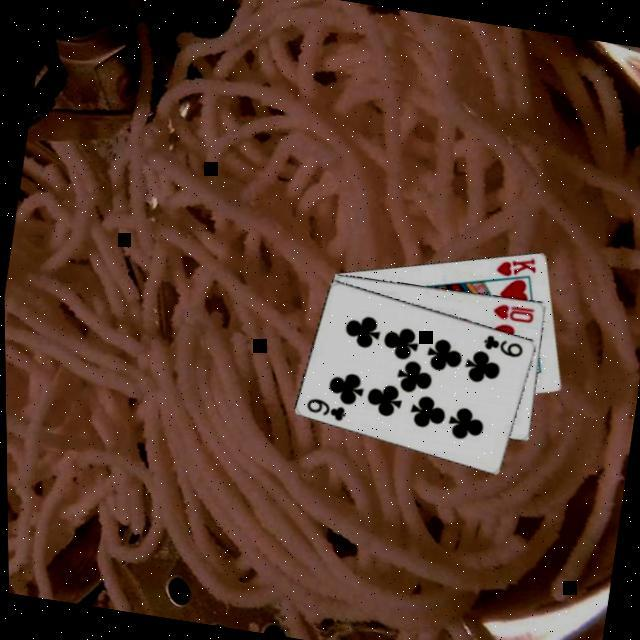10H: (487, 300, 536, 328)
9C: (476, 331, 526, 362), (300, 394, 348, 425)
KH: (491, 250, 538, 284)
